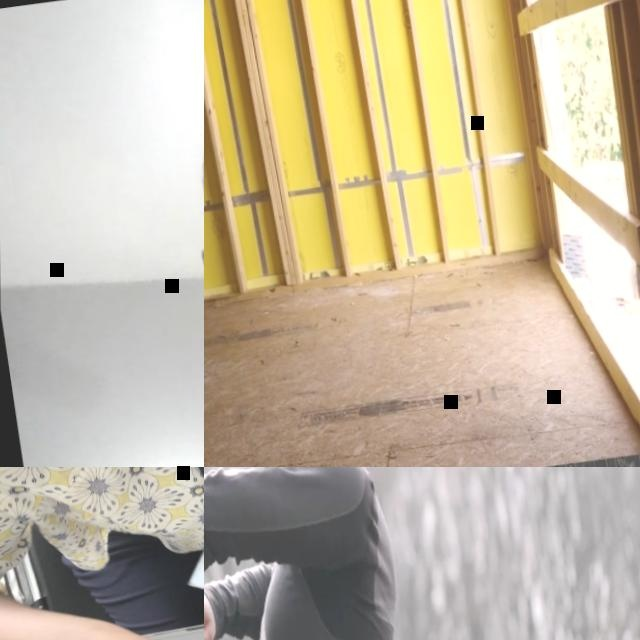NO-Safety Vest: (233, 467, 423, 640), (8, 467, 204, 572)
Person: (0, 1, 204, 467), (204, 467, 426, 640), (0, 467, 204, 640)
